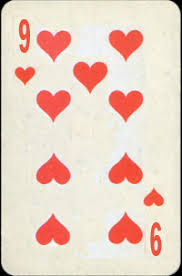nine of hearts: (4, 4, 178, 272)
